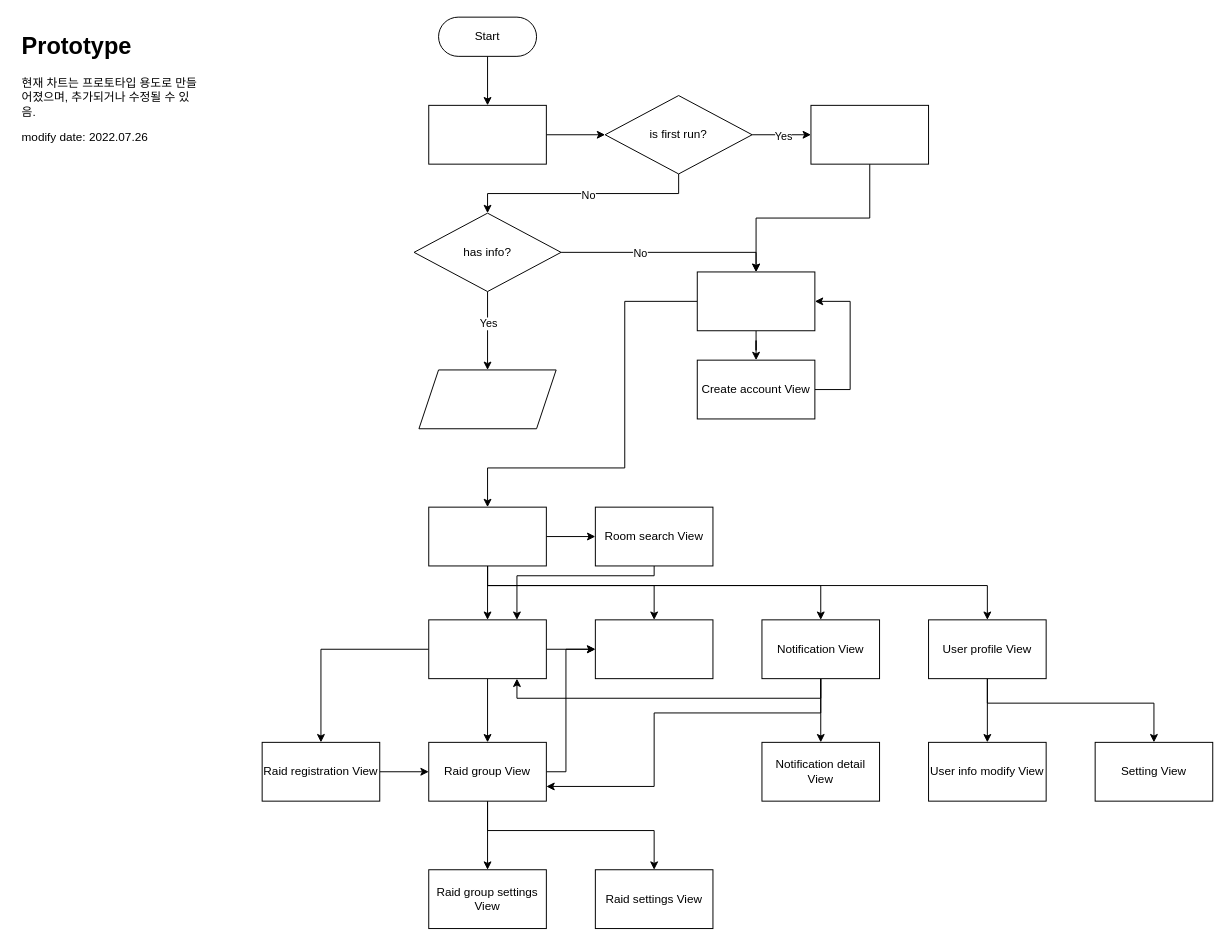
Image size: 1230x946. Some labels were removed from this diagram. The shapes that lost their labels are listed below. From the top down, each one's centre as x and y in pixels, then its label:
At point (487, 134): "Splash View".
At point (869, 134): "First guide View".
At point (755, 301): "Login View (with sosial)".
At point (487, 399): "Account Info id = info.id pw = info.pw".
At point (487, 536): "Main View".
At point (487, 649): "Room View".
At point (653, 649): "Calendar View".
